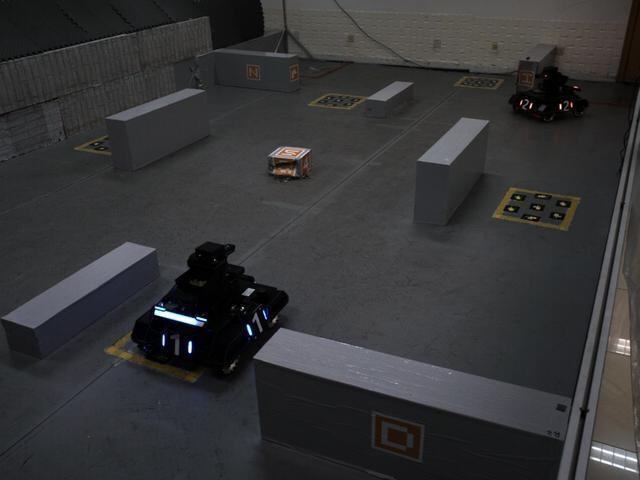armor: (154, 325, 197, 362), (244, 310, 270, 338), (554, 94, 574, 118), (517, 94, 535, 114)
